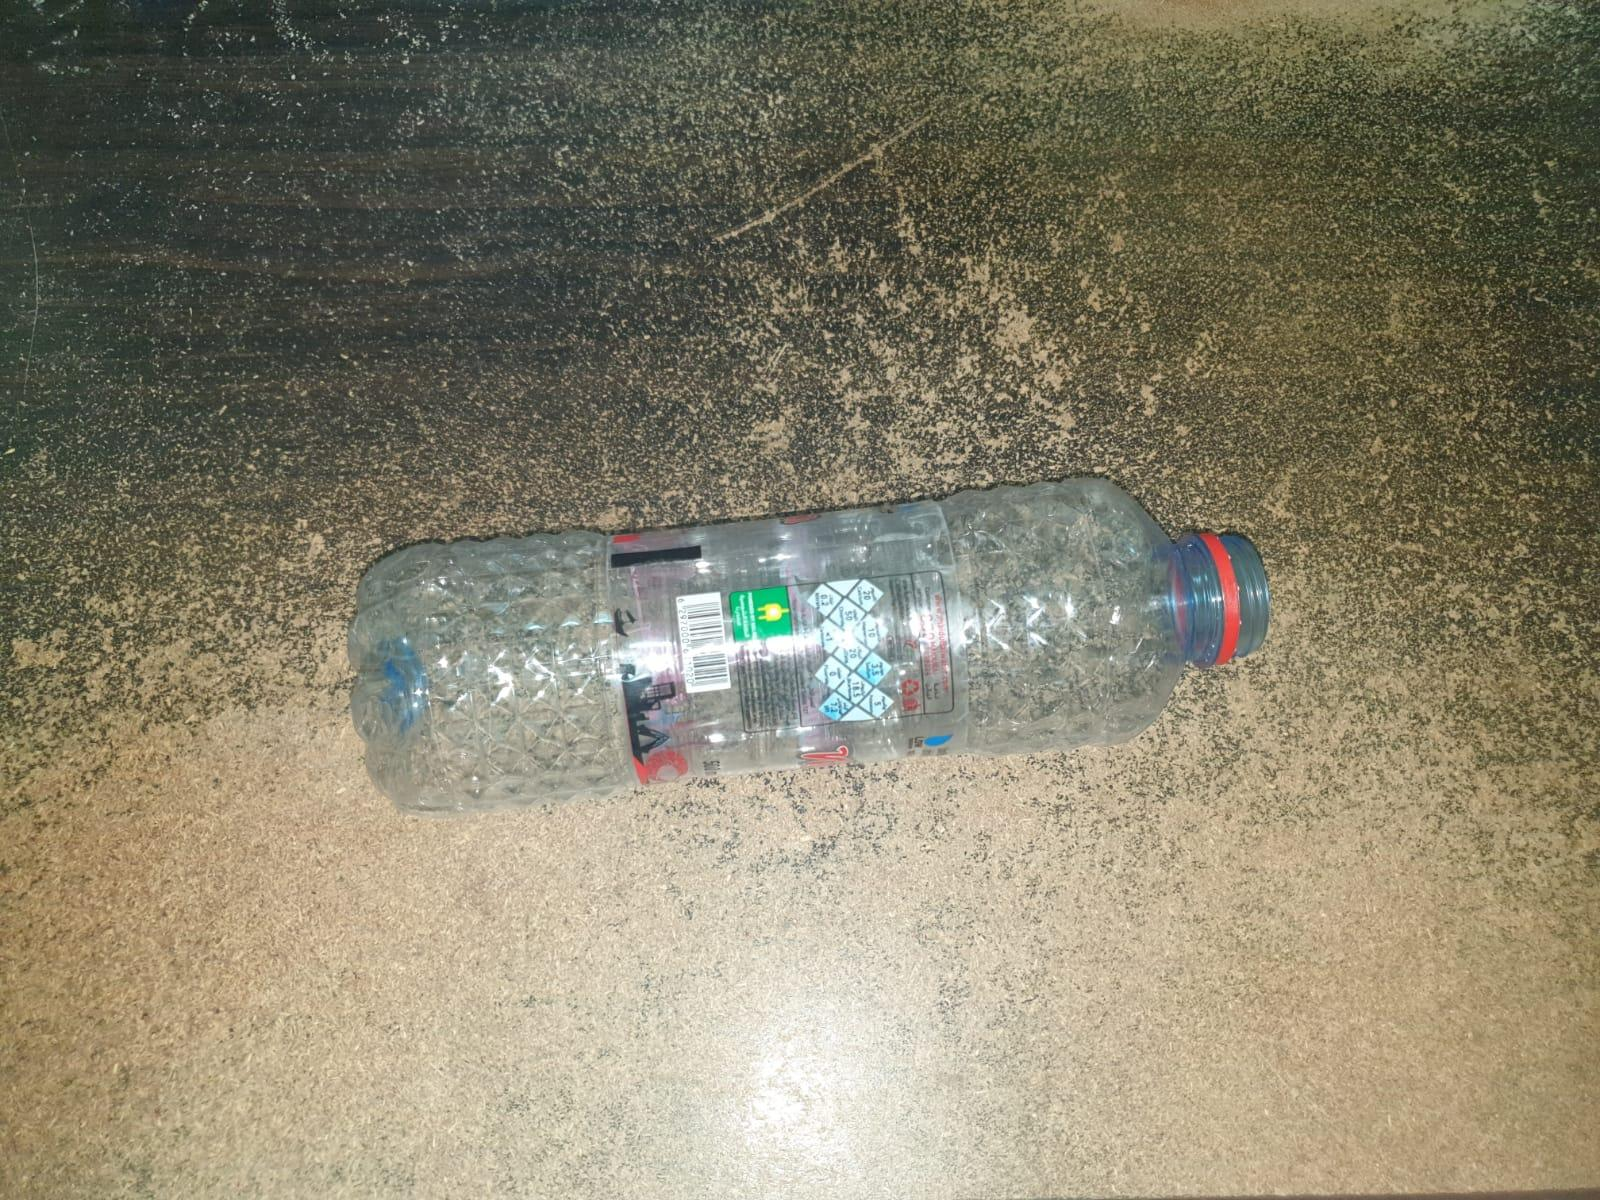bottle: (335, 474, 1276, 843)
